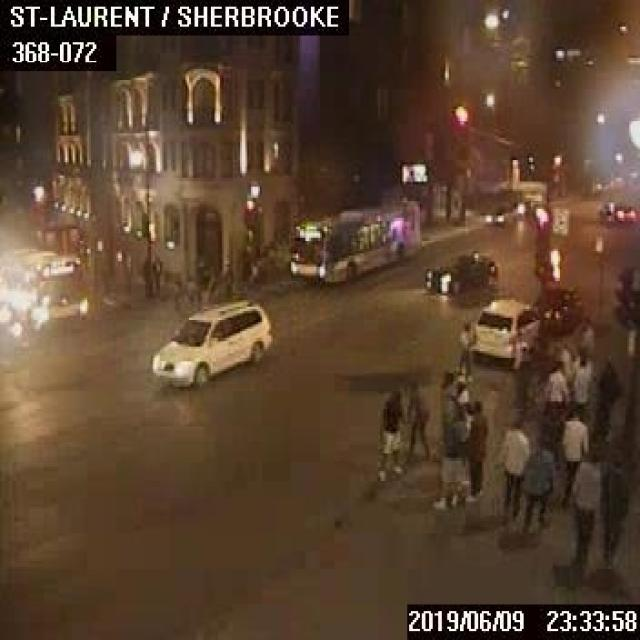bus: (288, 198, 418, 282), (0, 246, 85, 326)
pedestrian: (564, 452, 600, 571), (429, 409, 464, 508), (519, 439, 552, 536), (497, 416, 528, 517), (600, 456, 627, 570), (560, 403, 587, 505), (375, 386, 403, 476), (464, 398, 488, 497), (595, 353, 618, 441), (404, 379, 429, 459), (543, 362, 566, 437), (572, 354, 593, 424), (552, 336, 576, 384), (439, 369, 453, 447), (456, 318, 471, 377), (574, 314, 594, 356), (150, 254, 160, 292)
vehicle: (149, 298, 273, 389), (471, 293, 536, 367), (422, 249, 496, 293), (530, 285, 582, 330), (0, 302, 38, 347), (598, 200, 634, 225), (482, 205, 511, 225)
